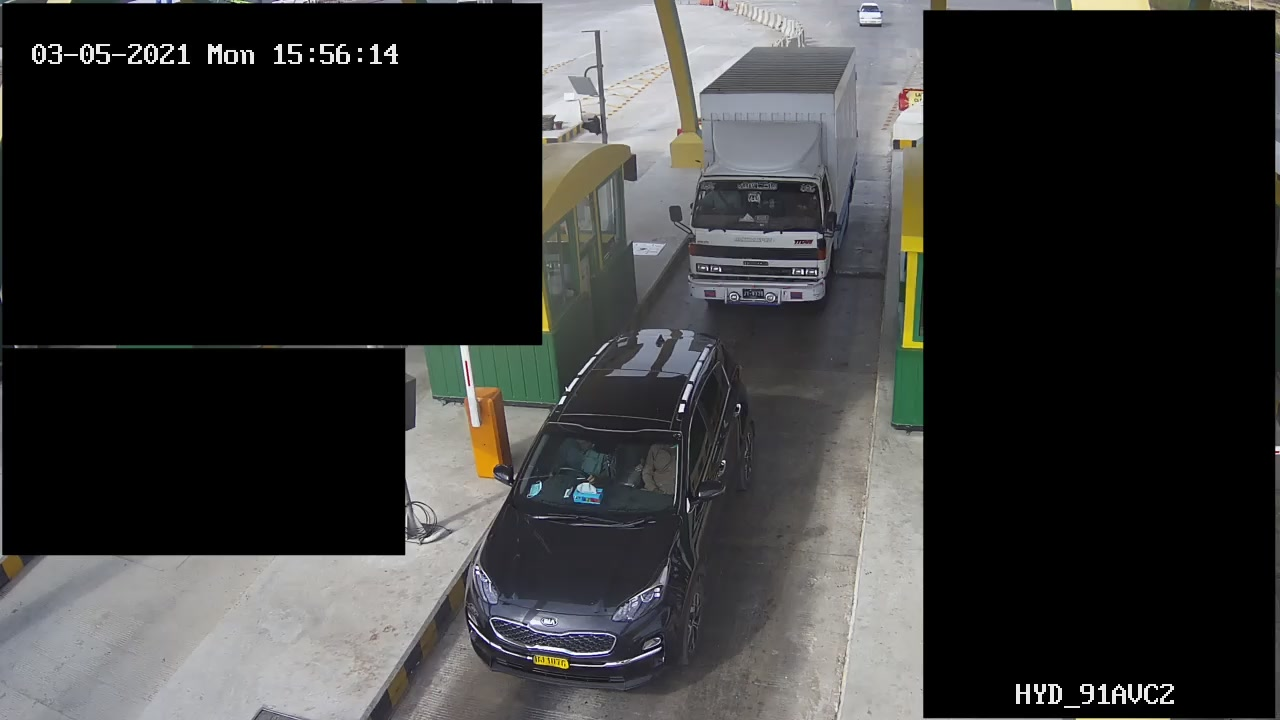F5: (682, 42, 868, 304)
